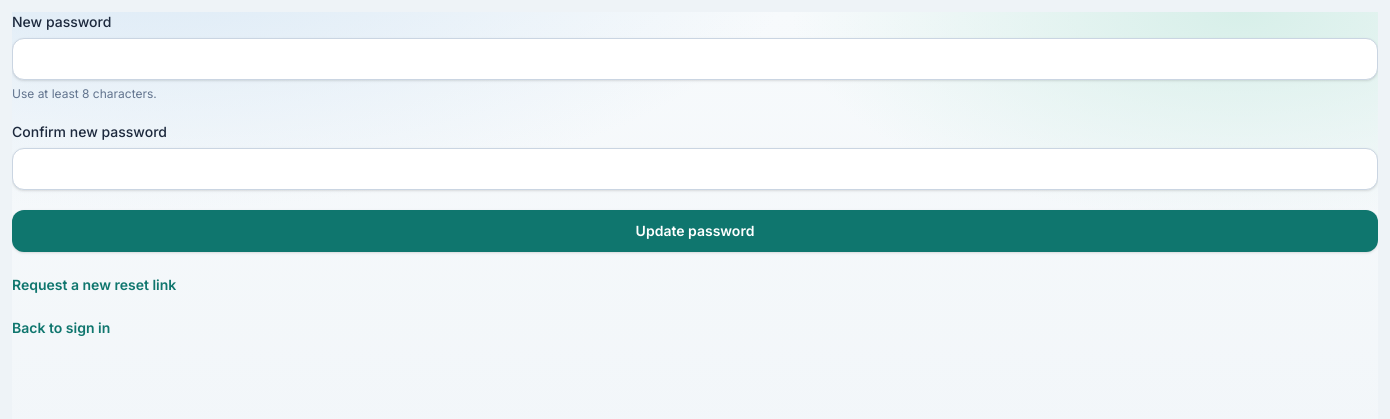
Test: preserves values on a server rejection without showing success
This screenshot has width=1390, height=419.
Type "password123" into the password field labelled "New password" at [695, 59], box x1=12 y1=38 x2=1378 y2=80
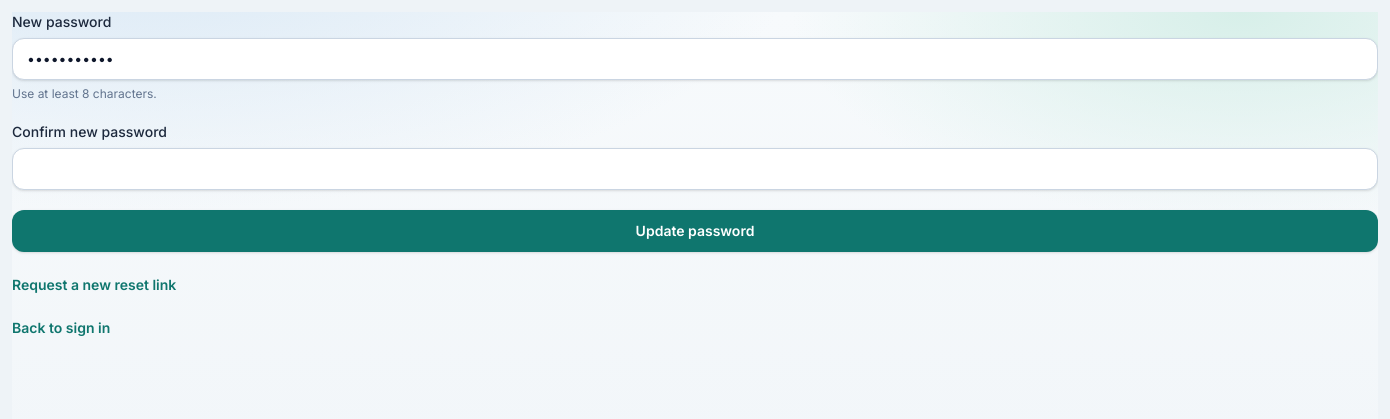
Type "password123" into the password field labelled "Confirm new password" at [695, 169], box x1=12 y1=148 x2=1378 y2=190
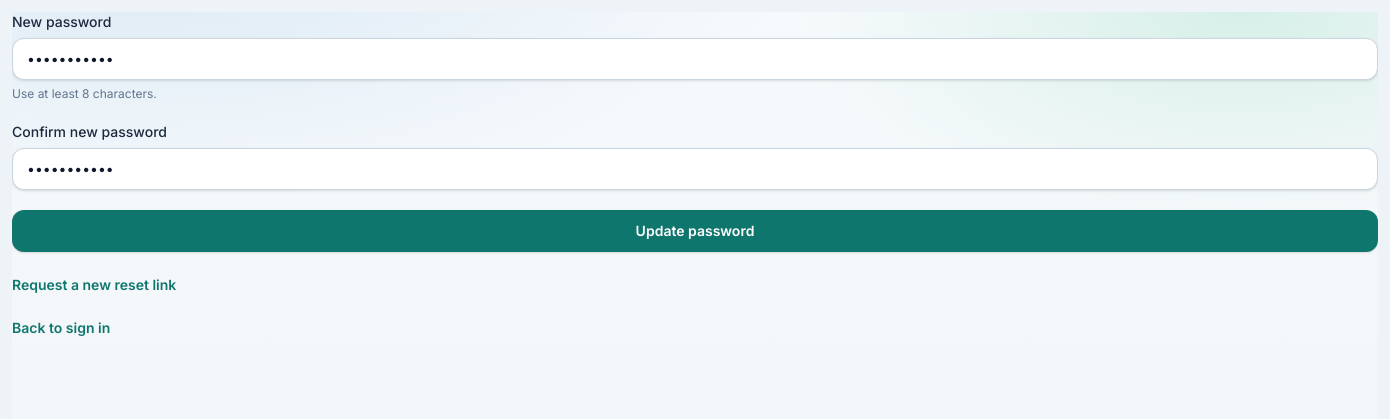
Click the button "Update password" at [695, 231], box x1=12 y1=210 x2=1378 y2=252
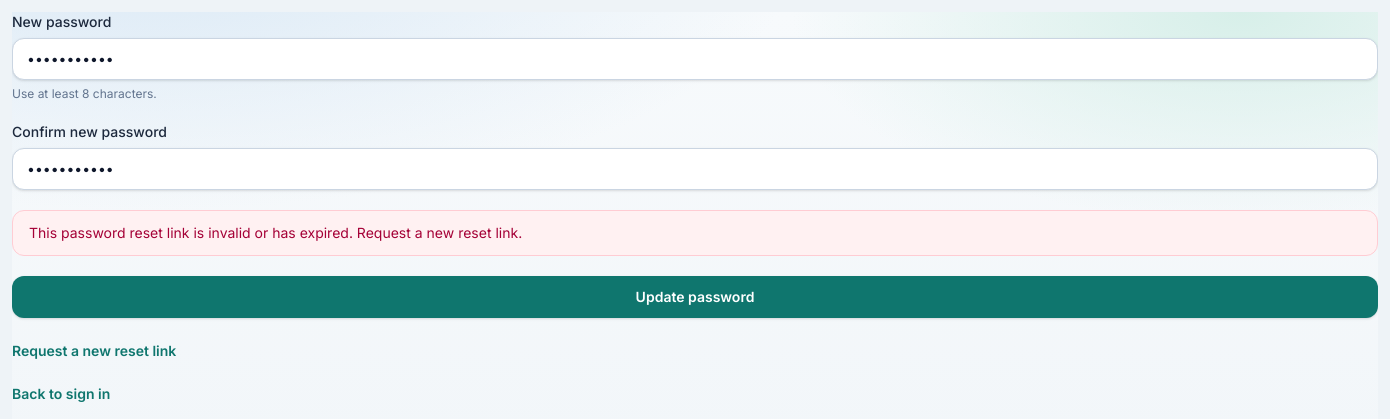
Check: the text "This password reset link is invalid or has expired. Request a new reset link." is shown, box x1=12 y1=210 x2=1378 y2=256
